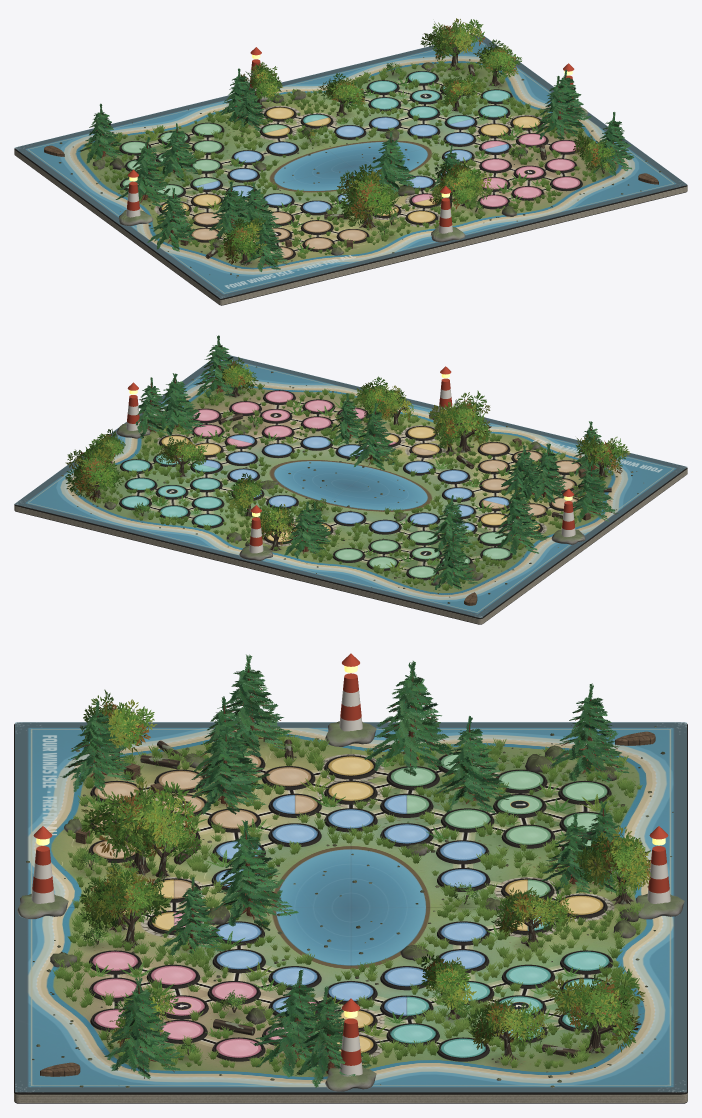
File: isle.glb
3 views of the same model, one above another, from view 1: azimuth 30°, elevation 25°; view 2: azimuth 150°, elevation 25°; view 3: azimuth 270°, elevation 25° (orthographic). The views are drawn at different scales.
Visible parts, largest first — view 1: scenery (×14), board (×2); view 2: scenery (×13), board (×2); view 3: scenery (×26), board (×38).
Boxes of the visible parts, bbox=[...] form: scenery (×14): bbox=[14, 18, 686, 298]; board (×2): bbox=[14, 35, 687, 305]; scenery (×13): bbox=[15, 335, 686, 617]; board (×2): bbox=[14, 355, 687, 624]; scenery (×26): bbox=[15, 654, 686, 1091]; board (×38): bbox=[14, 722, 687, 1103].
Bounding box in the file's own units: 13.13 × 1.86 × 10.08.
Materials: 31 (25 with a texture image).
